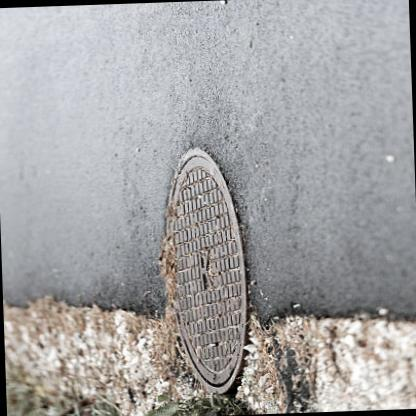manholes: (138, 132, 268, 400)
